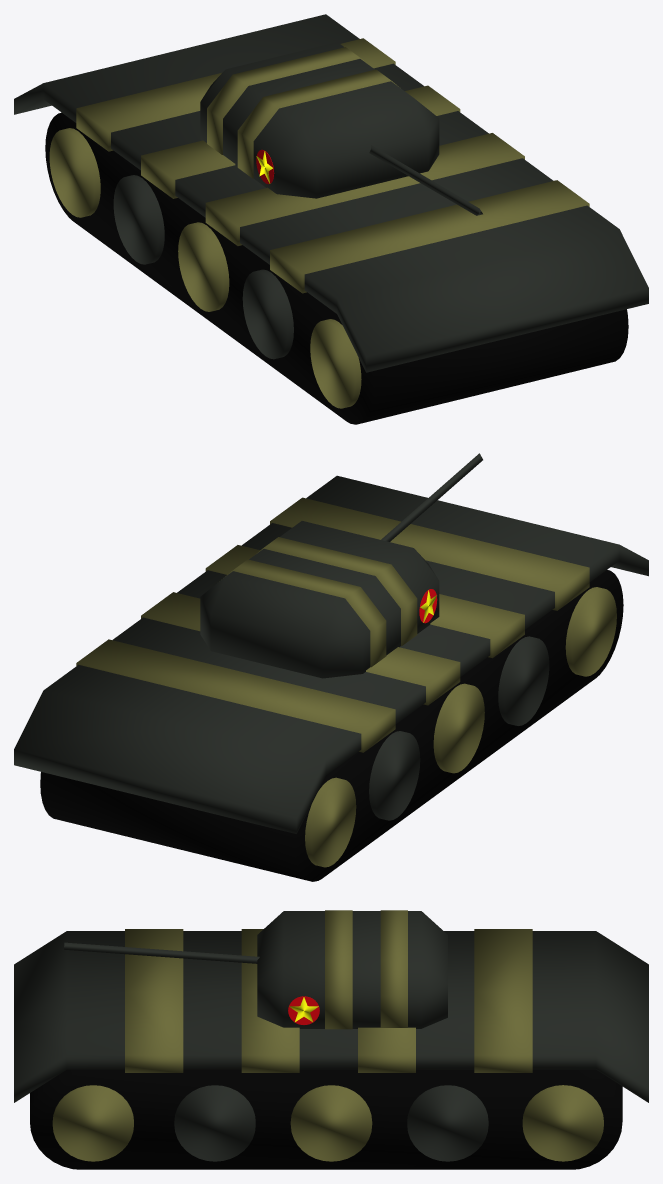
Rendered from tank.glb.
The picture shows the model from 3 angles, top to bottom: view 1: azimuth 30°, elevation 25°; view 2: azimuth 150°, elevation 25°; view 3: azimuth 270°, elevation 25°; orthographic projection. The views are drawn at different scales.
Visible parts, largest first — view 1: Cube, Cylinder, Cube.001, Cube.002, Cube.003, Cylinder.001, Cylinder.002, Cylinder.005, Cylinder.004, Cylinder.003, Cylinder.007; view 2: Cube, Cube.001, Cylinder, Cube.002, Cube.003, Cylinder.002, Cylinder.003, Cylinder.004, Cylinder.001, Cylinder.005, Cylinder.007; view 3: Cube, Cylinder, Cube.001, Cube.002, Cube.003, Cylinder.004, Cylinder.003, Cylinder.001, Cylinder.002, Cylinder.005, Cylinder.007, Cylinder.006.
Part boxes in pixels (x1,y1,x2,y2): Cube: (14, 14, 648, 372); Cylinder: (45, 112, 628, 424); Cube.001: (76, 38, 589, 293); Cube.002: (200, 42, 439, 198); Cube.003: (207, 47, 398, 178); Cylinder.001: (49, 128, 100, 217); Cylinder.002: (242, 269, 293, 359); Cylinder.005: (113, 175, 164, 264); Cylinder.004: (178, 222, 229, 311); Cylinder.003: (310, 319, 361, 408); Cylinder.007: (369, 145, 482, 215); Cube: (14, 475, 648, 833); Cube.001: (76, 497, 589, 752); Cylinder: (40, 570, 623, 881); Cube.002: (200, 521, 439, 678); Cube.003: (219, 537, 417, 667); Cylinder.002: (498, 636, 549, 725); Cylinder.003: (565, 587, 616, 676); Cylinder.004: (433, 683, 484, 773); Cylinder.001: (305, 777, 356, 867); Cylinder.005: (369, 731, 420, 820); Cylinder.007: (381, 453, 482, 541); Cube: (14, 931, 648, 1102); Cylinder: (30, 1069, 622, 1169); Cube.001: (125, 929, 532, 1072); Cube.002: (257, 911, 447, 1028); Cube.003: (325, 910, 407, 1029); Cylinder.004: (290, 1085, 372, 1161); Cylinder.003: (52, 1085, 133, 1161); Cylinder.001: (522, 1085, 603, 1161); Cylinder.002: (174, 1085, 255, 1161); Cylinder.005: (407, 1085, 488, 1161); Cylinder.007: (64, 942, 259, 963); Cylinder.006: (288, 996, 319, 1024).
Size of the model in its own units: 5.65 by 3.7 by 12.
